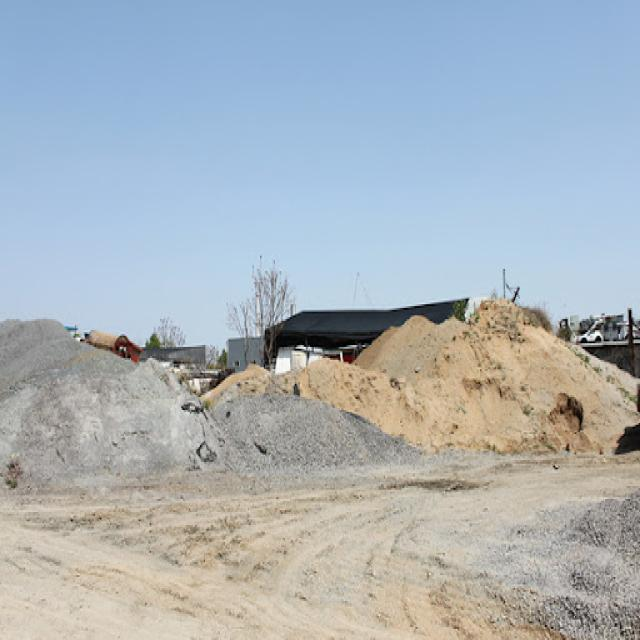white-sand: (0, 321, 639, 638), (202, 301, 639, 451)
